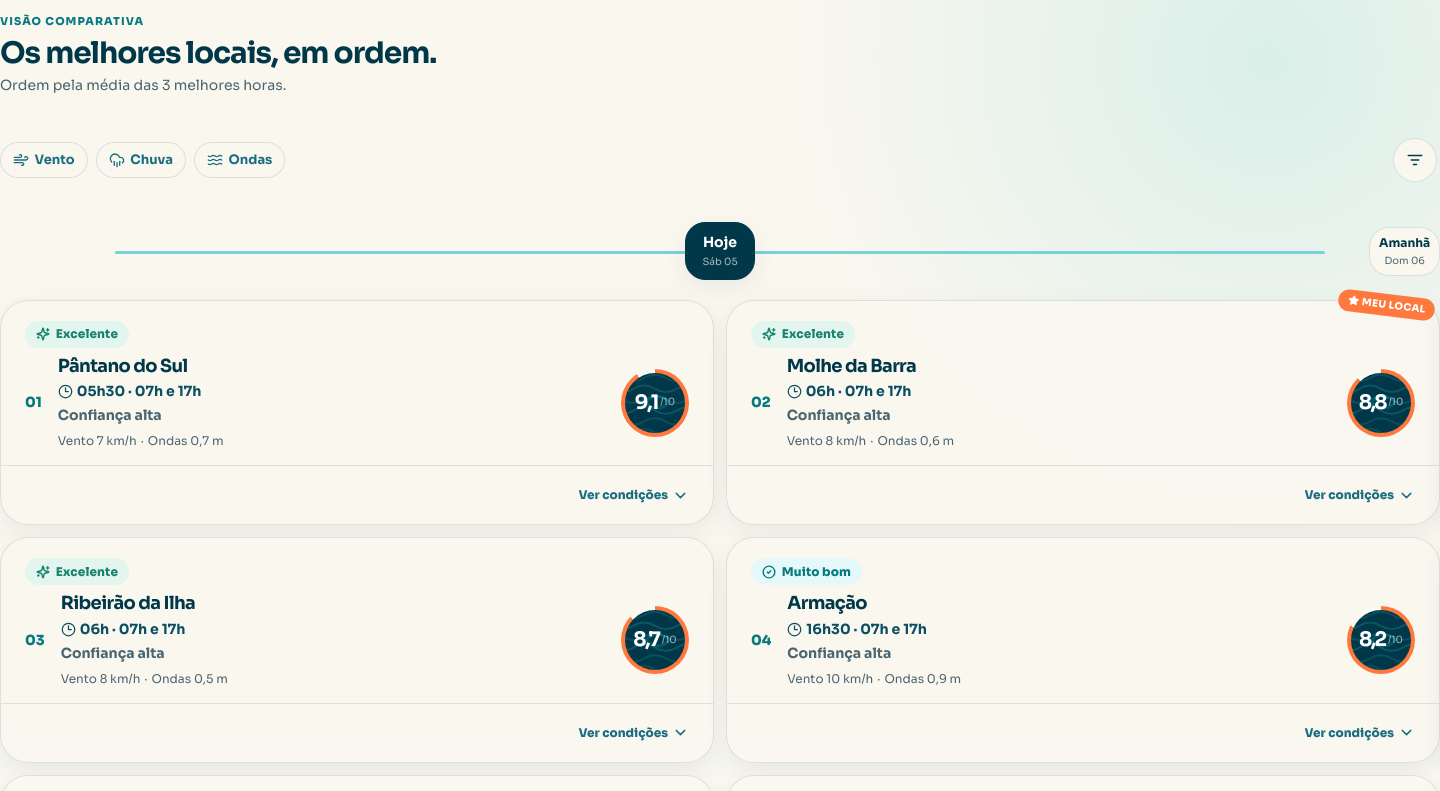
Test case: RankingPage › abre os filtros avançados e recorta o ranking por região
Expected: the heading "Pântano do Sul" is shown, left=58, top=355, right=188, bottom=377
Expected: the button "Leste" is not shown
What coordinates should you click on to do the following:
click the button named "Filtros avançados"
I would click on:
 (1415, 160)
Its box is left=1393, top=138, right=1437, bottom=182.
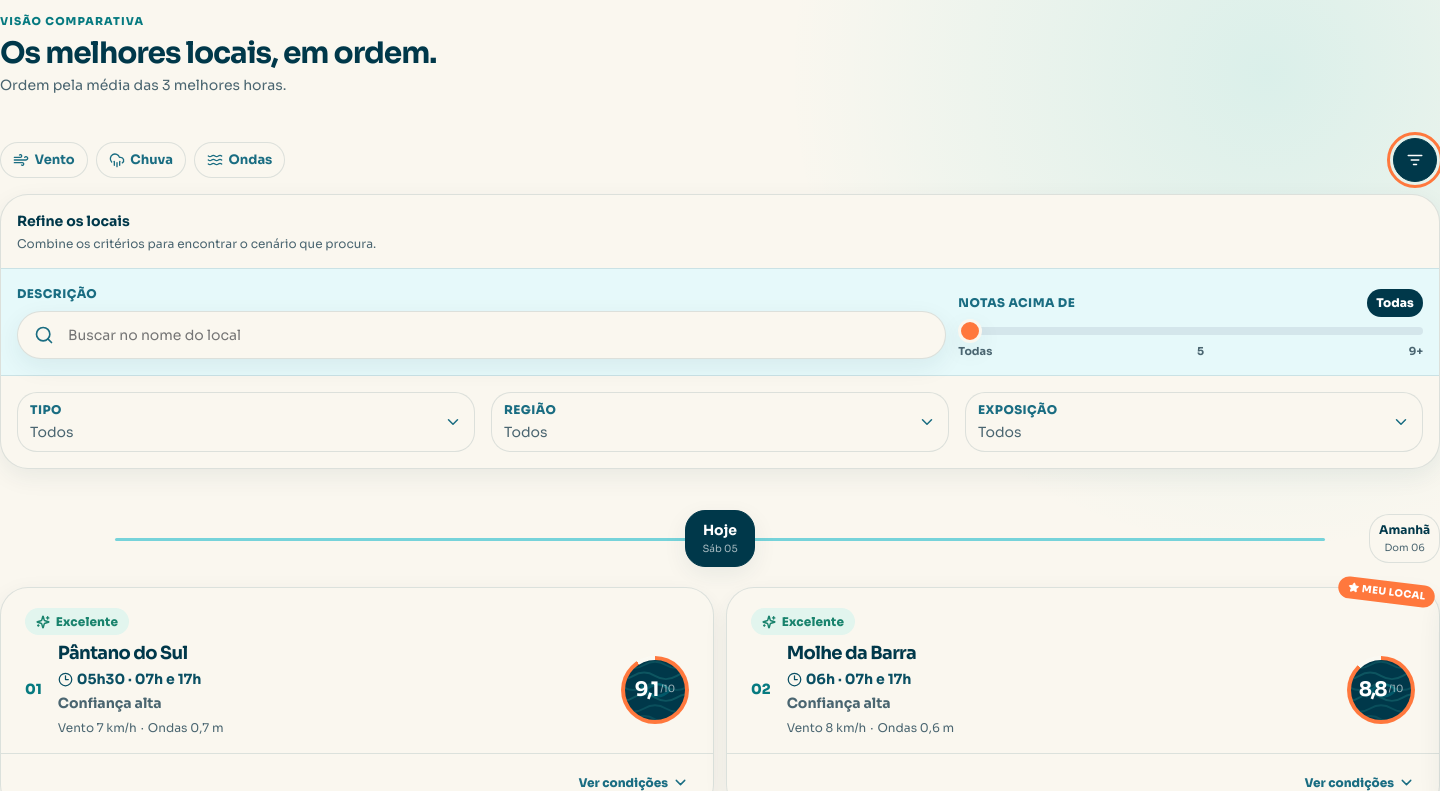
What coordinates should you click on to do the following:
click the text "Região"
I would click on:
 (530, 410)
Its box is left=504, top=401, right=556, bottom=419.
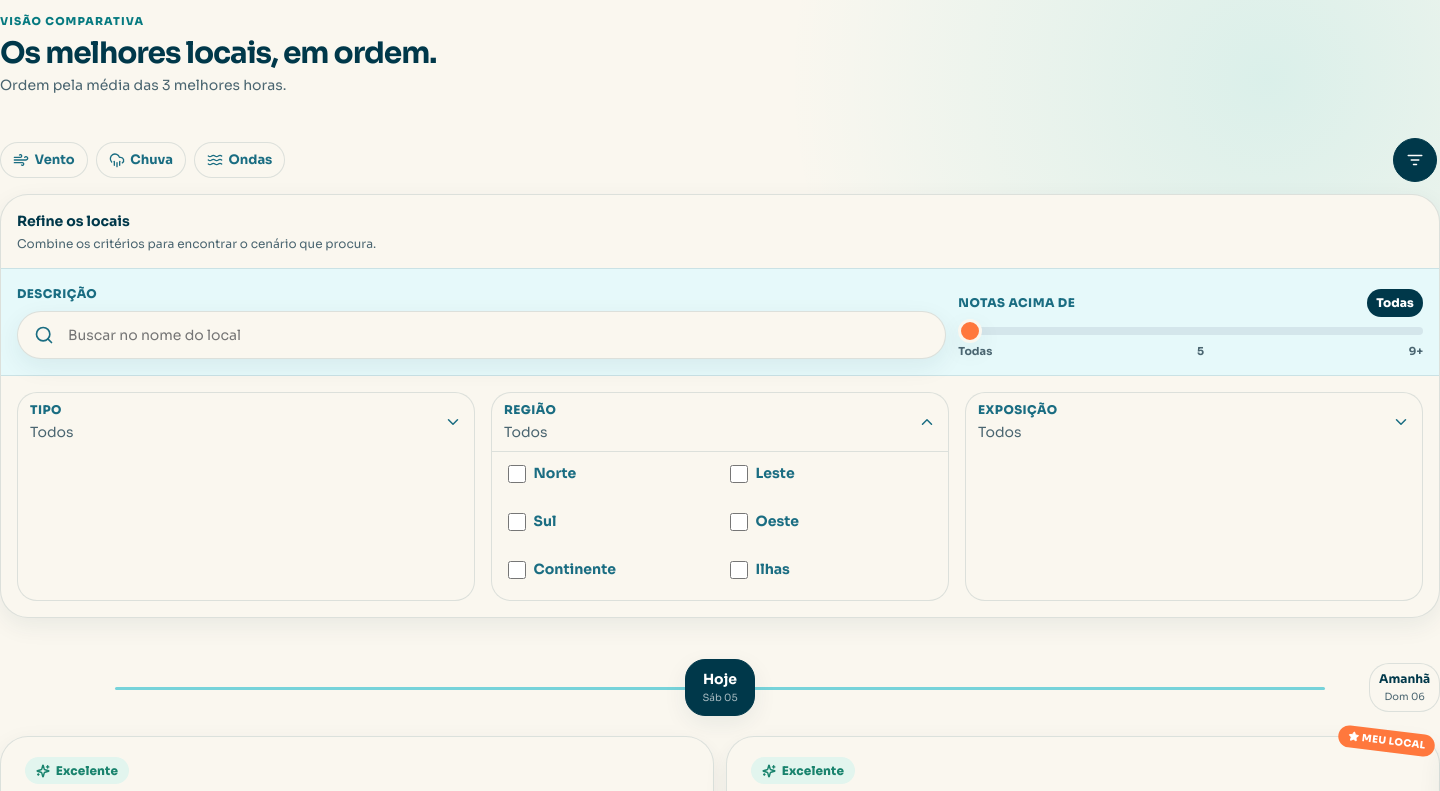
What coordinates should you click on to do the following:
click the checkbox labelled "Leste"
I would click on:
 (739, 474)
Its box is left=730, top=465, right=748, bottom=483.
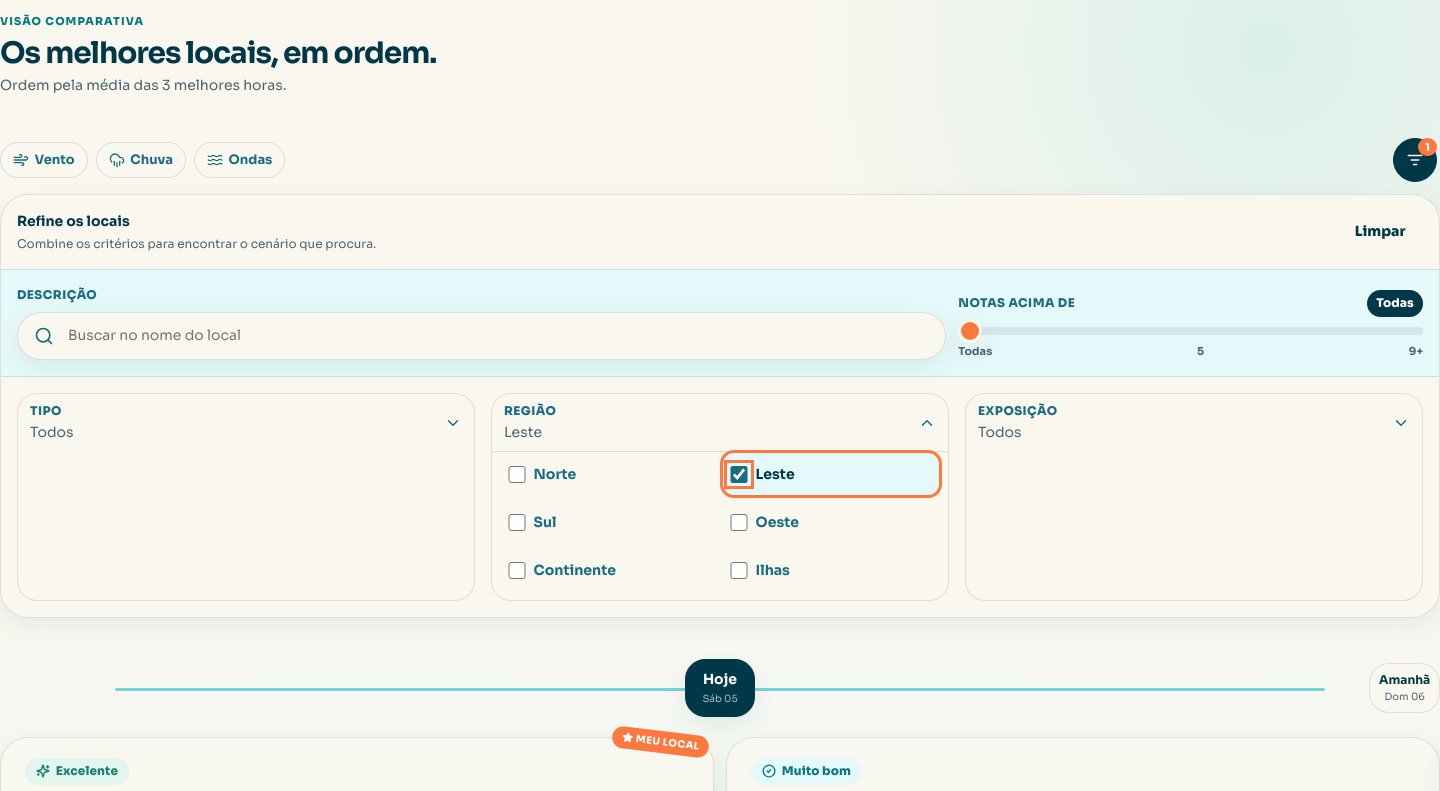
Expected: the button named "Fechar filtros avançados, 1 filtro aplicado" is shown, left=1393, top=138, right=1437, bottom=182
